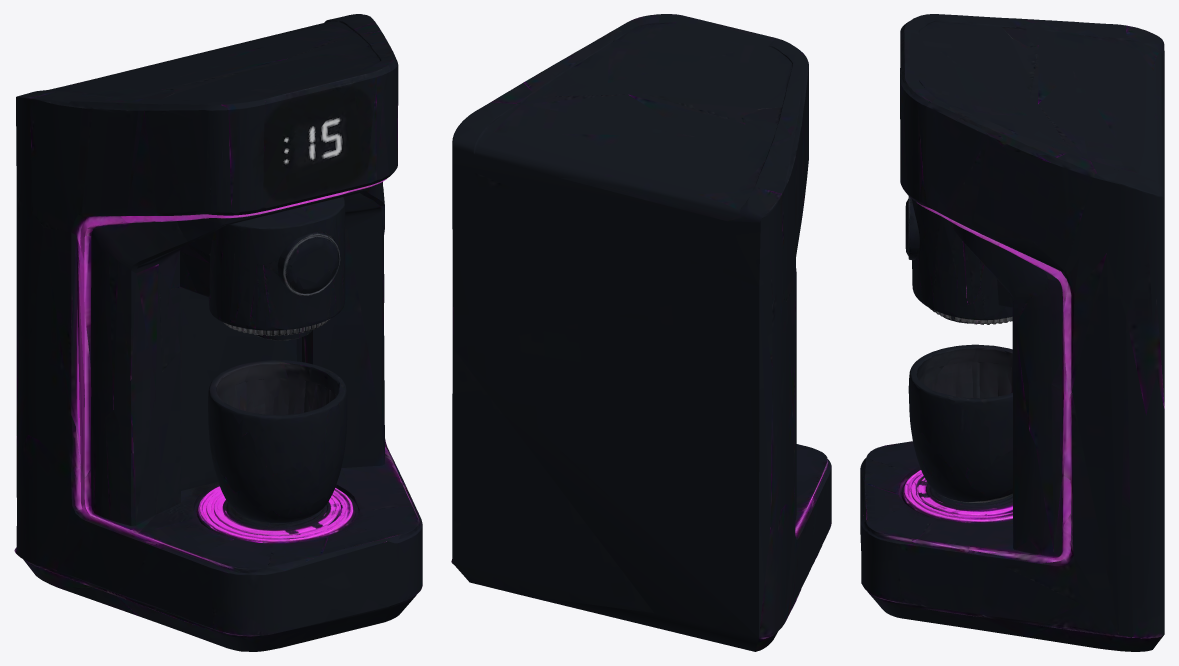
The model's file is coffee.glb.
3 renders of one model, left to right at view 1: azimuth 30°, elevation 25°; view 2: azimuth 150°, elevation 25°; view 3: azimuth 270°, elevation 25°, orthographic. The views are drawn at different scales.
Size of the model in its own units: 1.26 by 1.9 by 1.
Materials: 1 (1 with a texture image).
